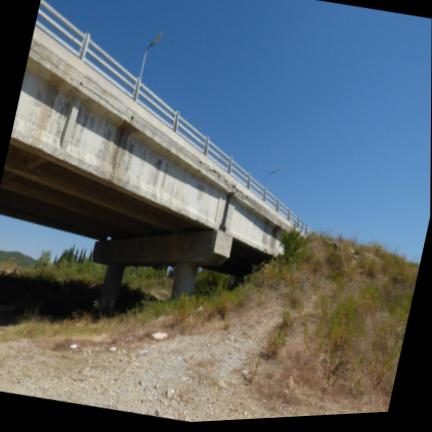beam: (10, 26, 306, 259)
pier bridge: (94, 265, 123, 321), (170, 266, 198, 302)
pier cap: (92, 230, 232, 268)
